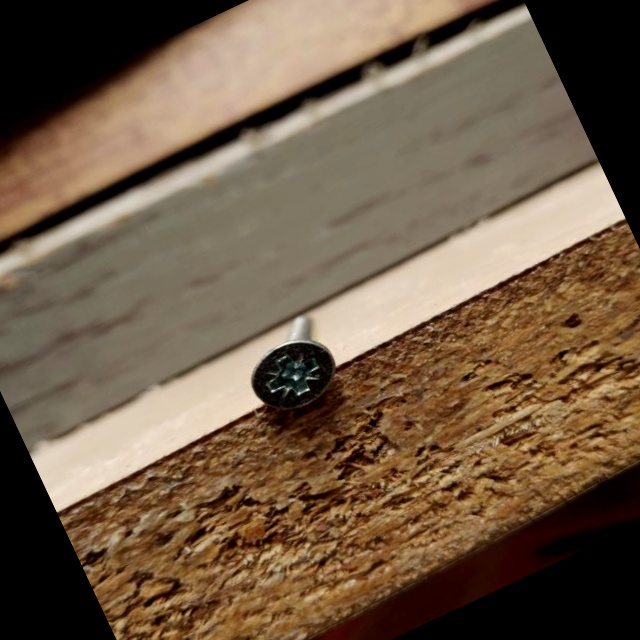pozidriv: (239, 325, 348, 424)
